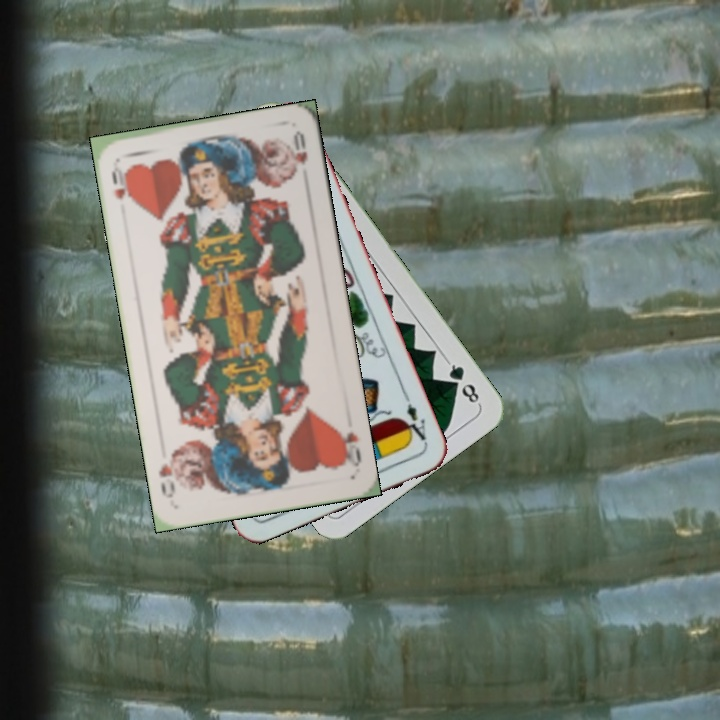EA: (399, 399, 429, 444)
G8: (442, 357, 483, 408)
HO: (334, 423, 364, 469), (107, 158, 135, 205)
